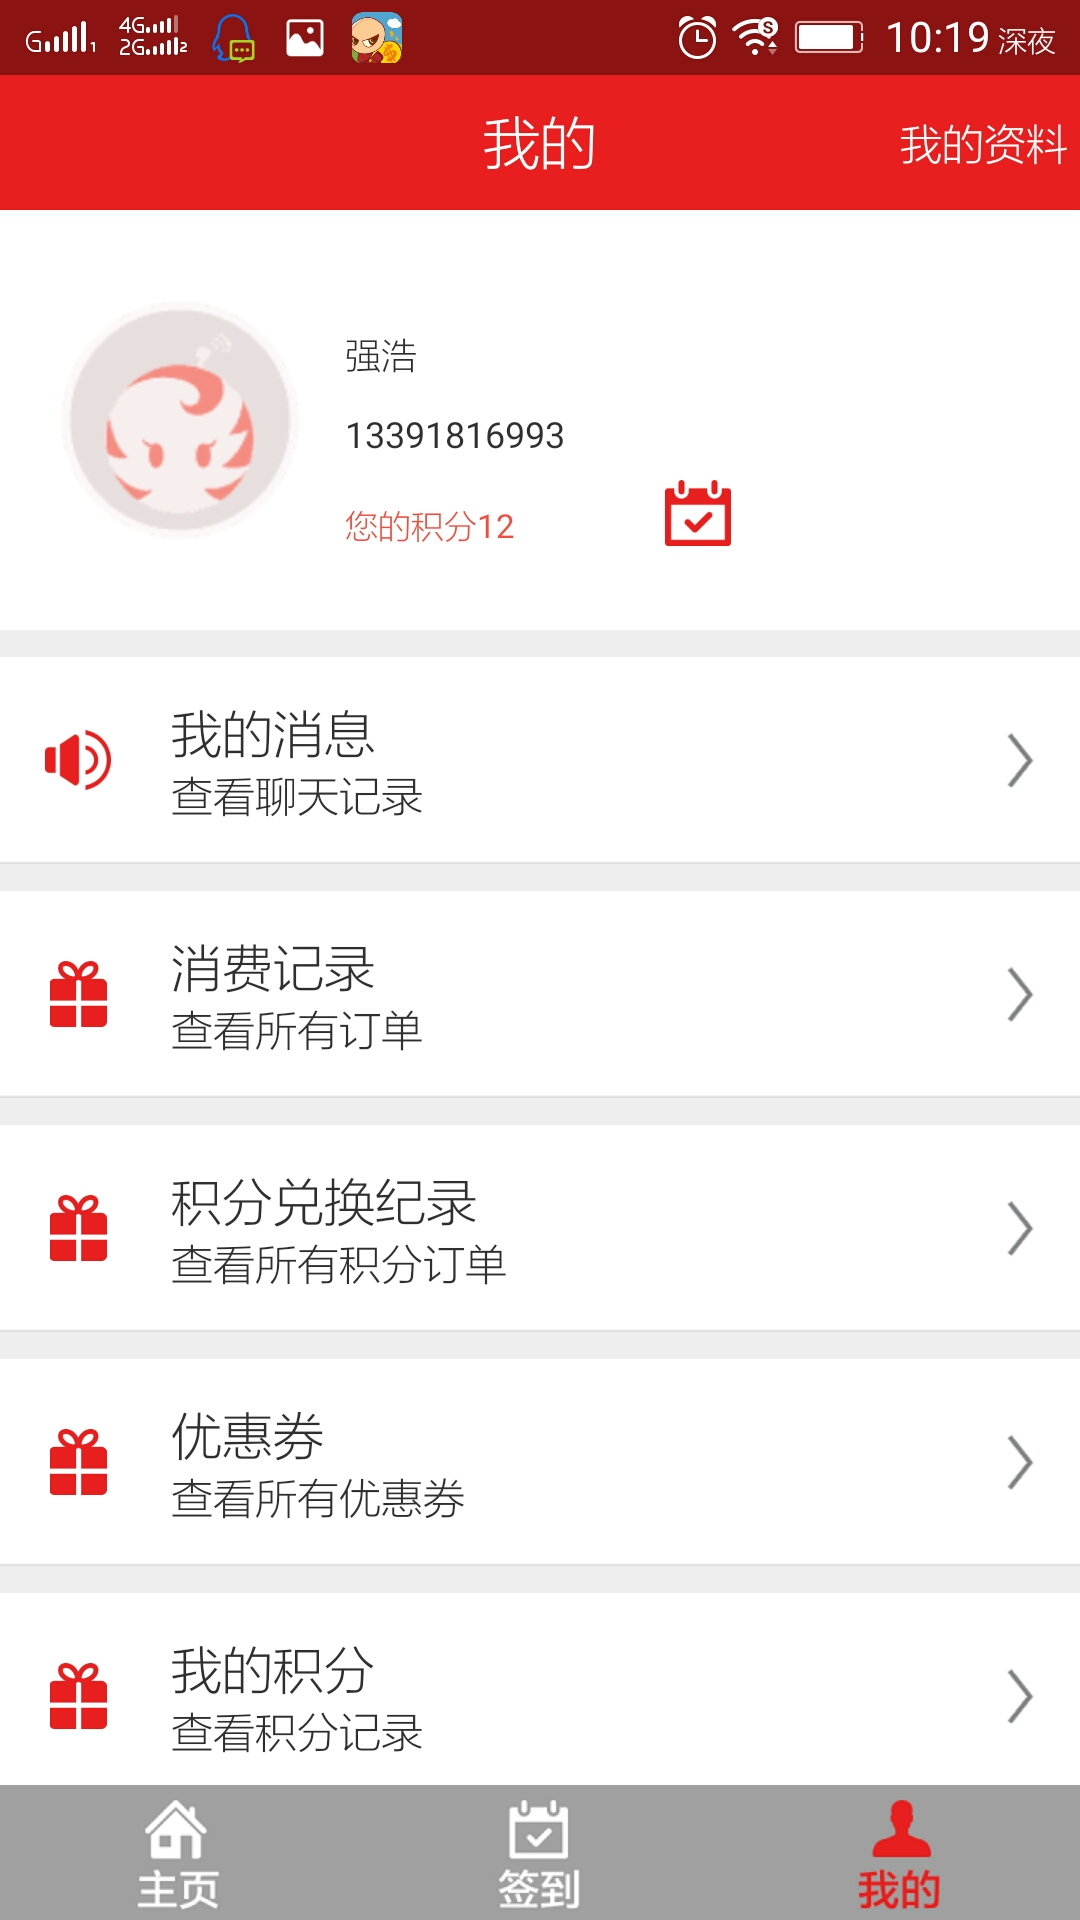imgbutton: (651, 469, 746, 553), (973, 723, 1048, 806)
imgview: (38, 299, 313, 526)
nav: (13, 1772, 1080, 1909)
textview: (26, 1126, 913, 1323)
